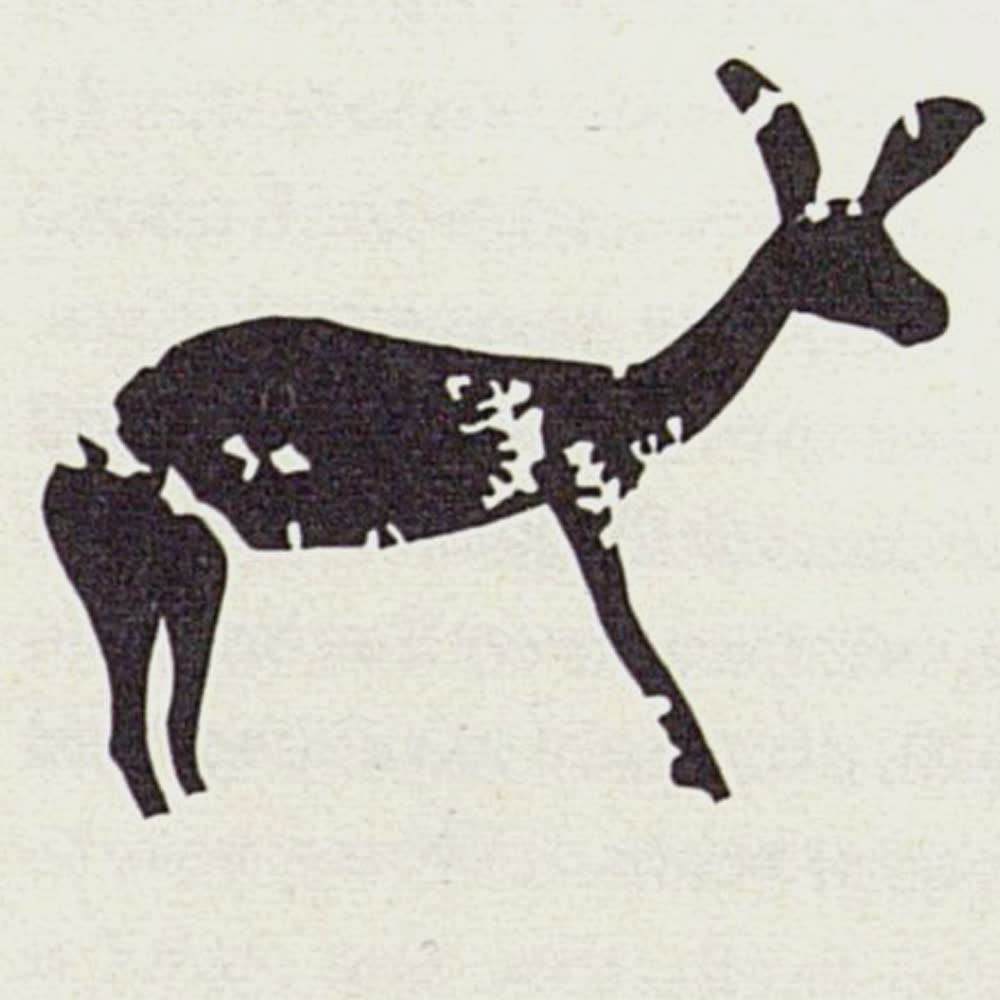animal: (37, 52, 995, 825)
